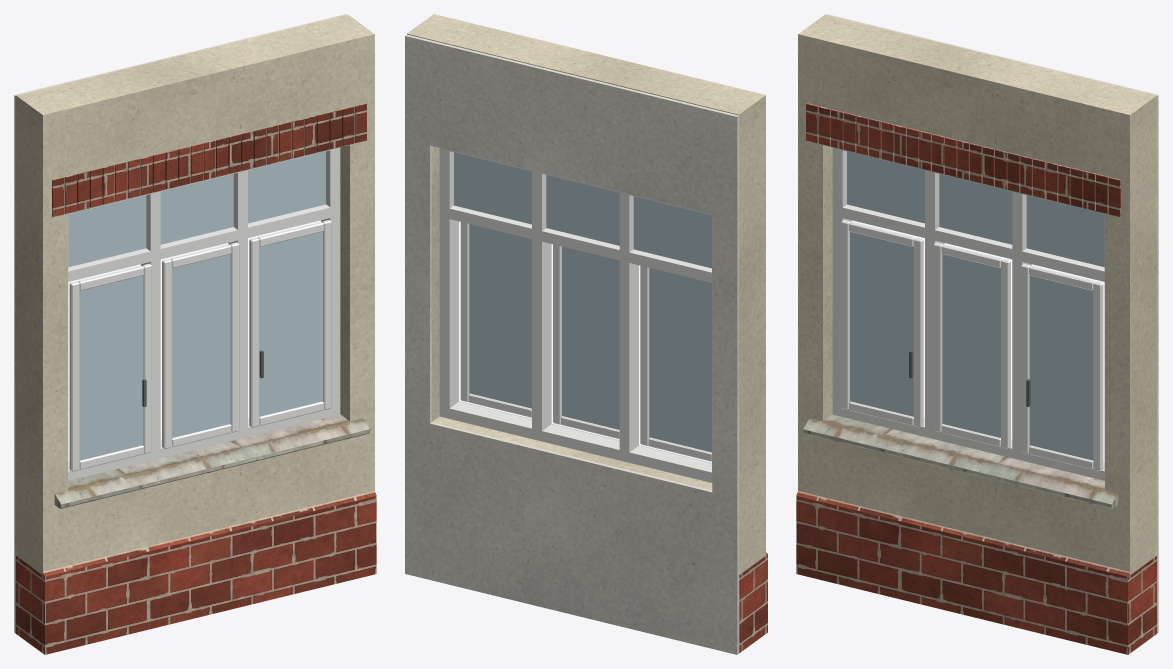
Rendered from w_g_wide.glb.
3 views of the same model, side by side, from view 1: azimuth 30°, elevation 25°; view 2: azimuth 150°, elevation 25°; view 3: azimuth 330°, elevation 25° (orthographic).
Parts seen in each view (by area): view 1: w_g_wide_render, w_g_wide_glass, w_g_wide_brick, w_g_wide_sash, w_g_wide_frame, w_g_wide_cill, w_g_wide_plaster; view 2: w_g_wide_plaster, w_g_wide_glass, w_g_wide_render, w_g_wide_frame, w_g_wide_sash, w_g_wide_brick; view 3: w_g_wide_render, w_g_wide_glass, w_g_wide_brick, w_g_wide_sash, w_g_wide_frame, w_g_wide_cill, w_g_wide_plaster.
Part boxes in pixels (bbox=[...]): w_g_wide_render: bbox=[16, 14, 374, 574]; w_g_wide_glass: bbox=[68, 151, 325, 460]; w_g_wide_brick: bbox=[16, 103, 376, 654]; w_g_wide_sash: bbox=[69, 220, 331, 471]; w_g_wide_frame: bbox=[68, 147, 340, 480]; w_g_wide_cill: bbox=[51, 140, 369, 508]; w_g_wide_plaster: bbox=[14, 14, 346, 633]; w_g_wide_plaster: bbox=[405, 34, 739, 654]; w_g_wide_glass: bbox=[454, 152, 711, 452]; w_g_wide_render: bbox=[407, 14, 765, 574]; w_g_wide_frame: bbox=[439, 148, 712, 482]; w_g_wide_sash: bbox=[460, 222, 711, 461]; w_g_wide_brick: bbox=[739, 552, 767, 652]; w_g_wide_render: bbox=[798, 14, 1156, 574]; w_g_wide_glass: bbox=[847, 151, 1104, 460]; w_g_wide_brick: bbox=[796, 103, 1156, 654]; w_g_wide_sash: bbox=[841, 220, 1103, 471]; w_g_wide_frame: bbox=[832, 147, 1104, 480]; w_g_wide_cill: bbox=[803, 140, 1121, 508]; w_g_wide_plaster: bbox=[826, 14, 1158, 633].
Bounding box in the file's own units: 2 × 3.1 × 0.37.
Materials: 8 (4 with a texture image).
